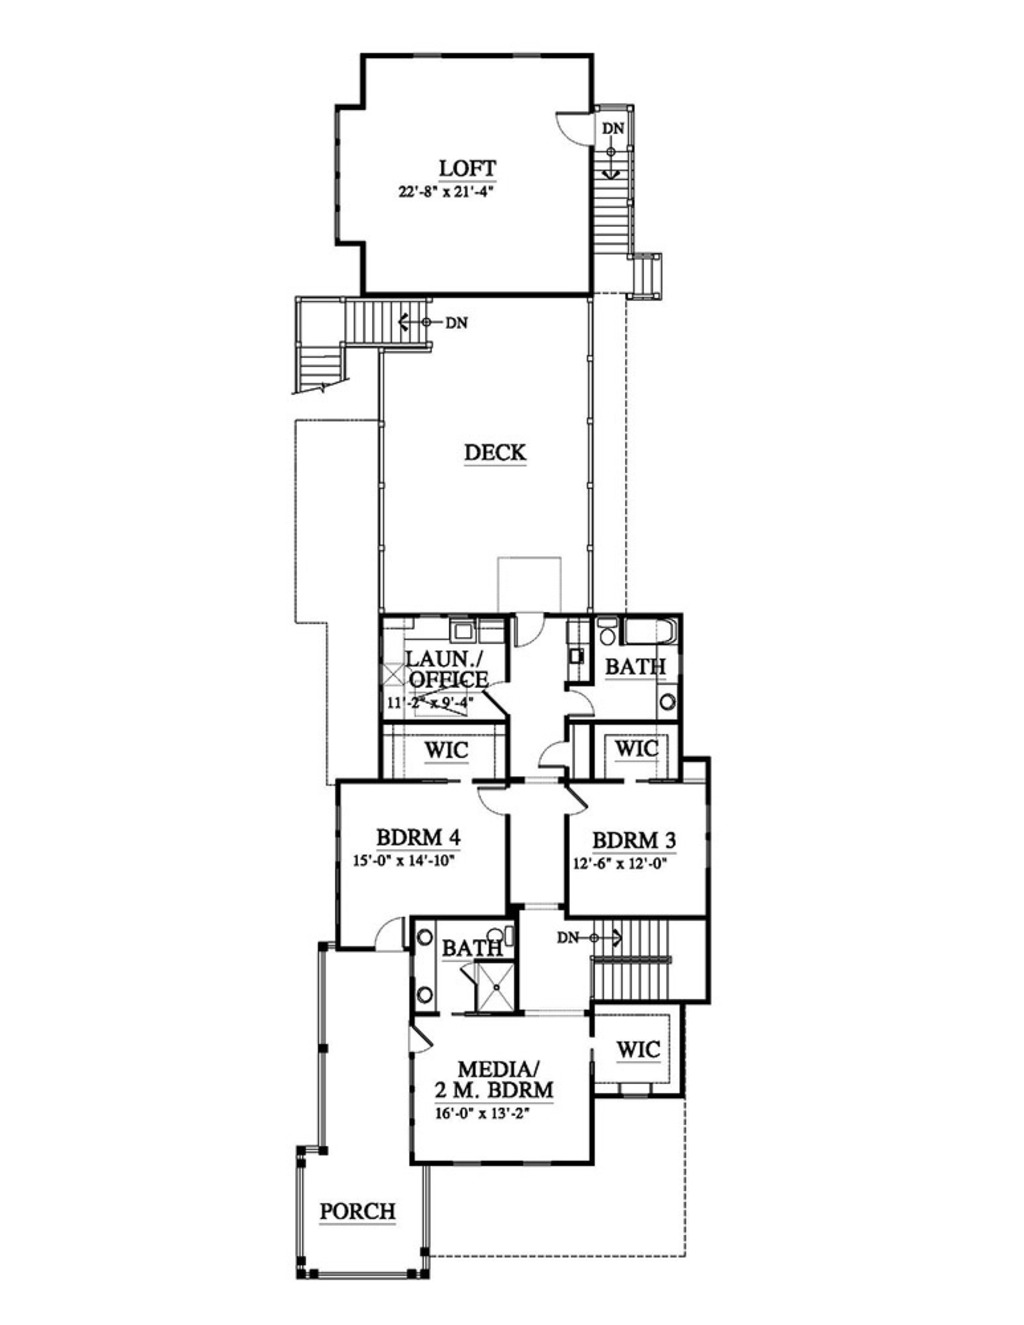door: (468, 780, 513, 820), (510, 608, 549, 646), (370, 914, 410, 950), (534, 736, 570, 770), (566, 683, 597, 712)
small_sink: (655, 683, 675, 718)
stairs: (291, 290, 469, 401), (586, 95, 669, 305), (582, 915, 713, 1007)
tub: (624, 611, 675, 645)
